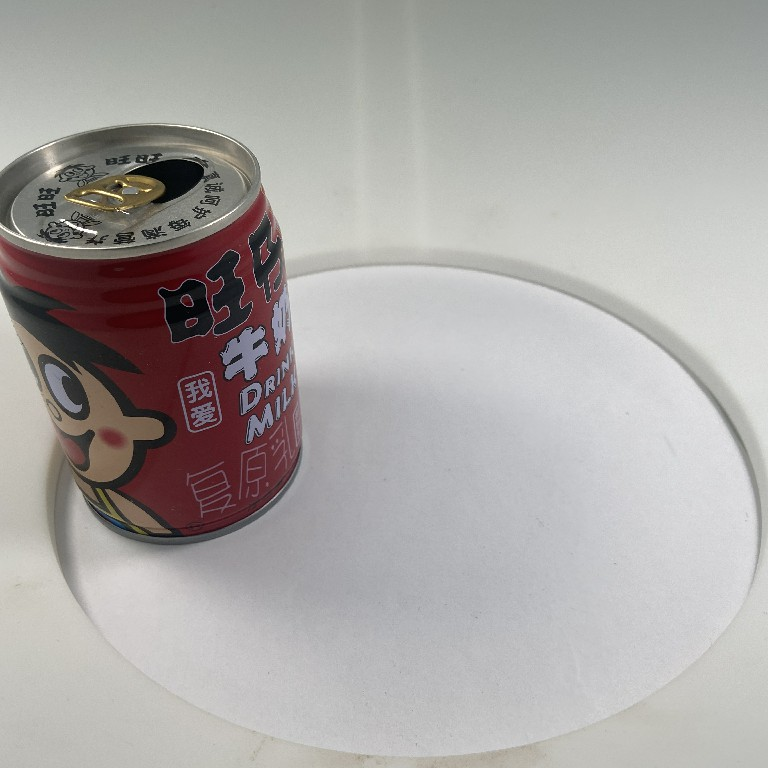can: (1, 117, 307, 552)
